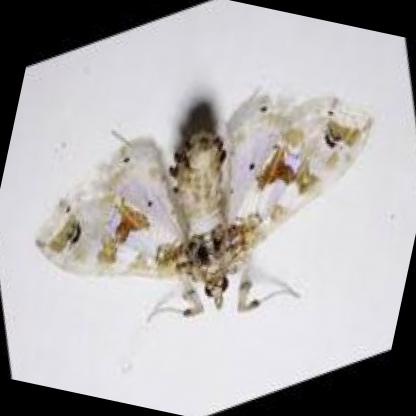leucinodes: (35, 95, 372, 312)
